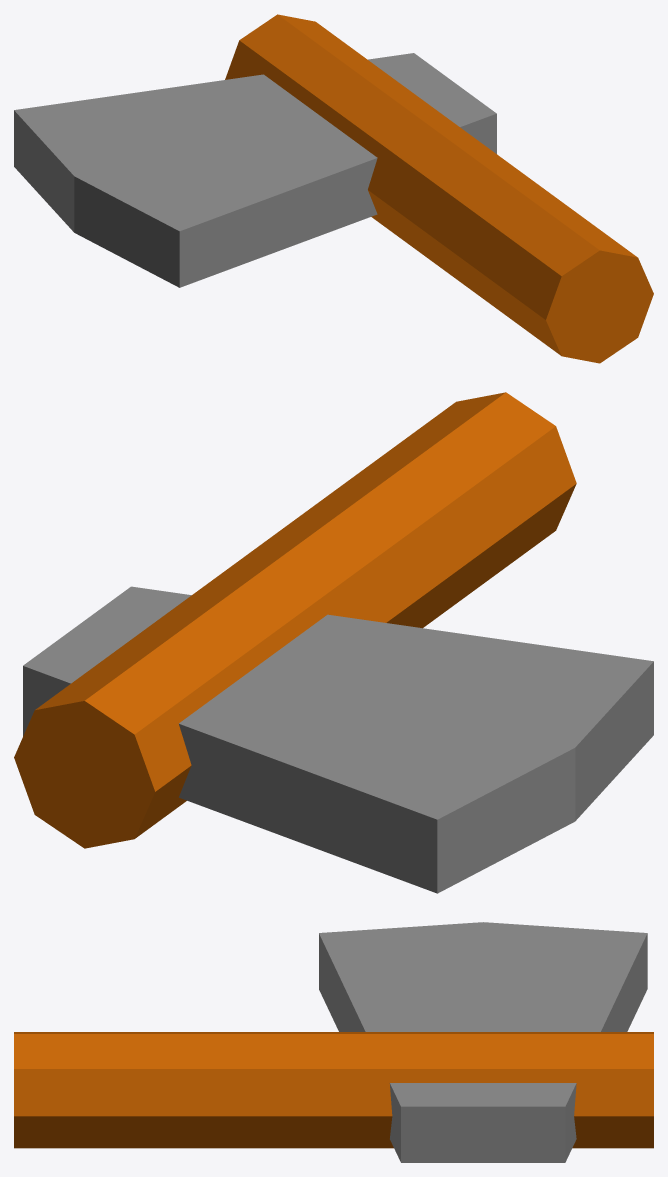
Rendered from Axe.dae.
3 renders of one model, top to bottom at view 1: azimuth 30°, elevation 25°; view 2: azimuth 150°, elevation 25°; view 3: azimuth 270°, elevation 25°, orthographic. The views are drawn at different scales.
Visible parts, largest first — view 1: group_1, group_0; view 2: group_1, group_0; view 3: group_0, group_1.
Boxes of the visible parts, x1,y1,x2,y2 form: group_1: (14, 53, 496, 287); group_0: (225, 14, 653, 363); group_1: (23, 586, 653, 893); group_0: (14, 392, 576, 848); group_0: (14, 1032, 653, 1148); group_1: (319, 922, 647, 1162).
Bounding box in the file's own units: 0.8329 × 1.22 × 0.2362.
